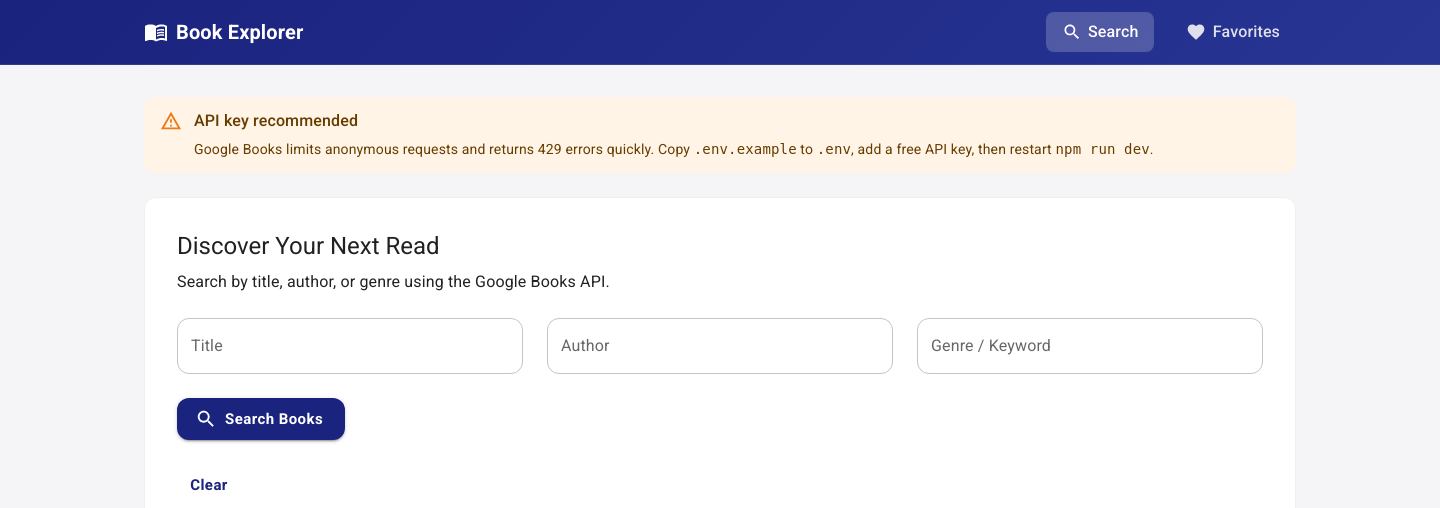
App routing › navigates to favorites page
The width and height of the screenshot is (1440, 508).
Click the link "Favorites" at {"x": 1233, "y": 32}, box top-left (1186, 22), bottom-right (1280, 42)
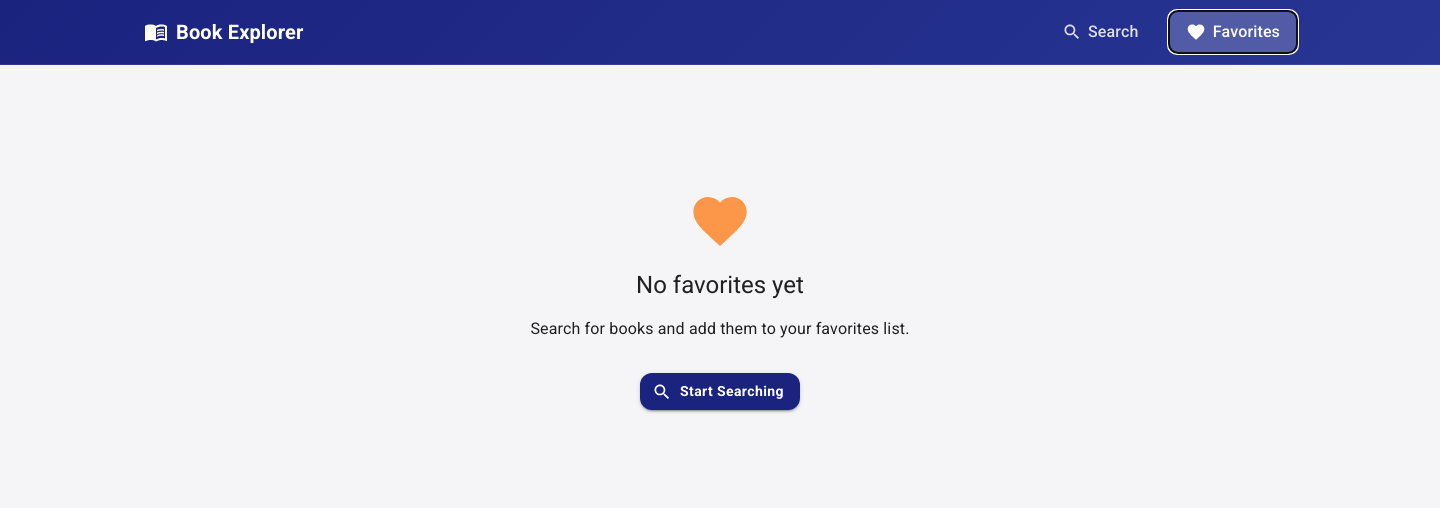
Check: the heading "No favorites yet" is shown, box top-left (636, 269), bottom-right (804, 301)
